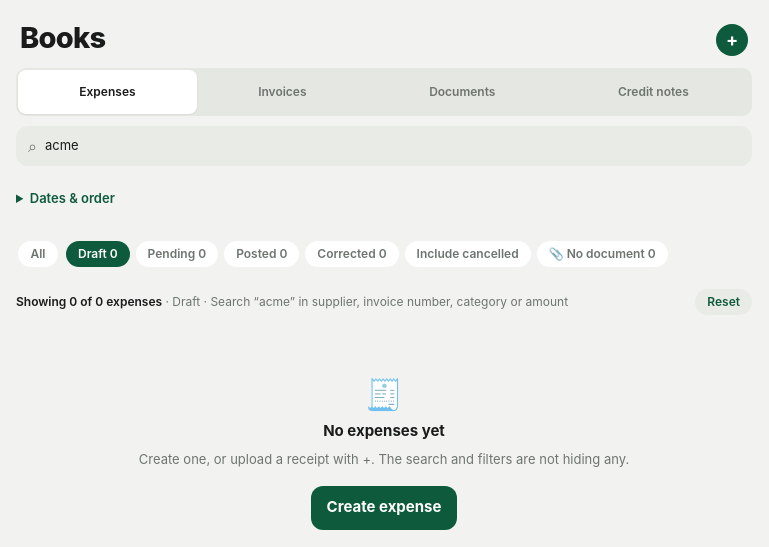
Test: BooksScreen › switching segments preserves ?q= but drops segment-specific filters
The width and height of the screenshot is (769, 547).
Expected: the heading "Books" is shown, [20,16,105,60]
Click the radio button labelled "Invoices" at (282, 92), box [258,84,306,99]
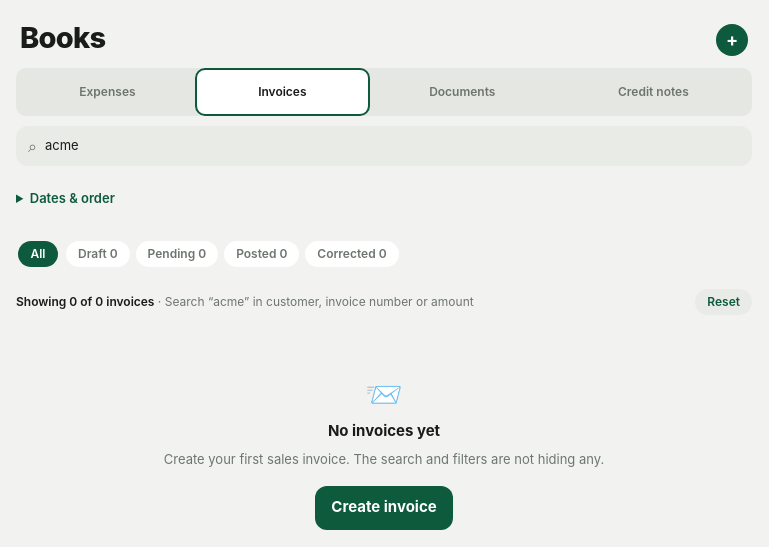
Expected: the search field showing "acme" is shown, [45,136,740,155]
Now the text "No invoices yet" is shown, box [328,420,440,442]
